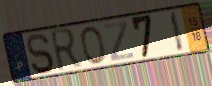7: (129, 13, 154, 60)
I: (169, 10, 186, 54)
O: (79, 25, 107, 65)
R: (48, 25, 84, 75)
S: (25, 32, 56, 76)
Z: (102, 19, 136, 63)
